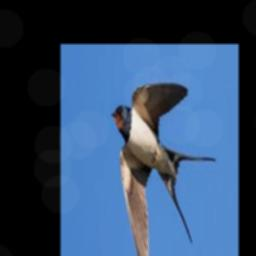Swallow: (111, 82, 216, 256)
